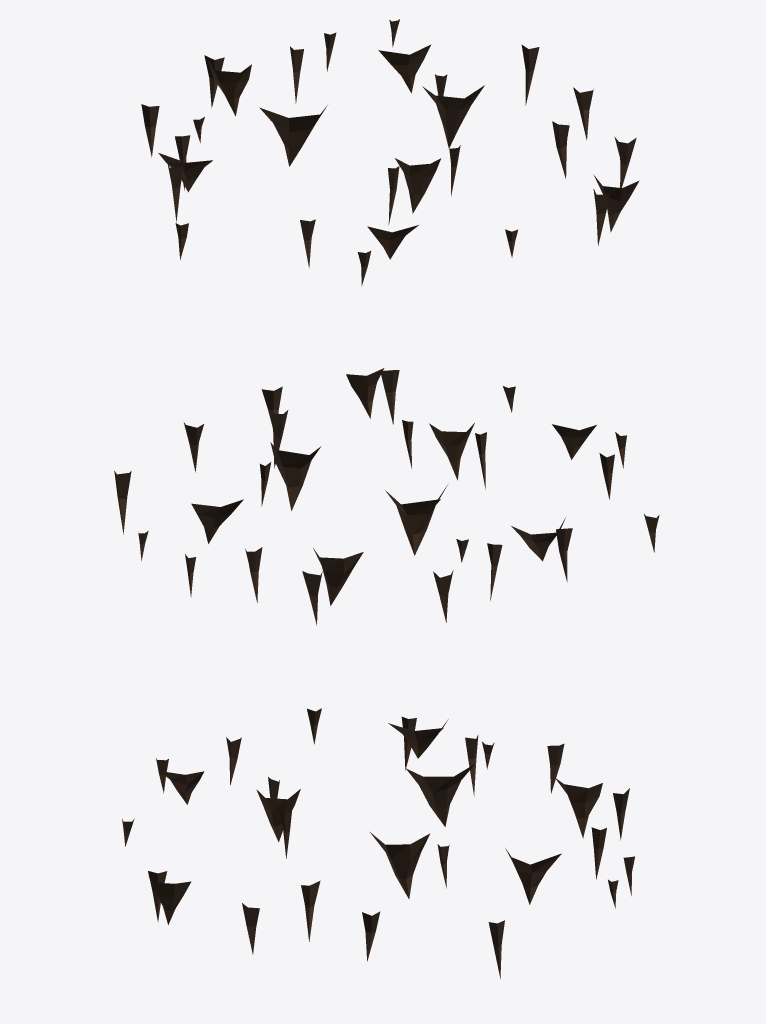
Rendered from tl_env_cave_ceiling_v01.glb.
3 renders of one model, top to bottom at view 1: azimuth 30°, elevation 25°; view 2: azimuth 150°, elevation 25°; view 3: azimuth 270°, elevation 25°, orthographic.
Parts seen in each view (by area): view 1: tl_env_cave_ceiling_v01; view 2: tl_env_cave_ceiling_v01; view 3: tl_env_cave_ceiling_v01.
Boxes of the visible parts, x1,y1,x2,y2 form: tl_env_cave_ceiling_v01: (141, 19, 639, 285); tl_env_cave_ceiling_v01: (114, 368, 659, 625); tl_env_cave_ceiling_v01: (122, 708, 634, 979).
Bounding box in the file's own units: 40.93 × 5.47 × 40.92.
